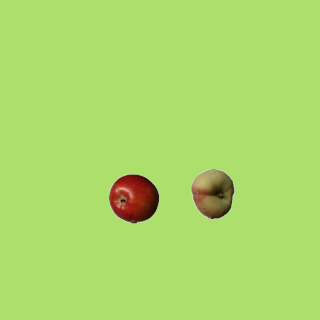Apple Braeburn: (108, 173, 158, 223)
Peach Flat: (187, 168, 237, 218)
